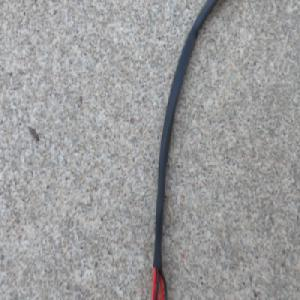Wire: (145, 0, 229, 300)
